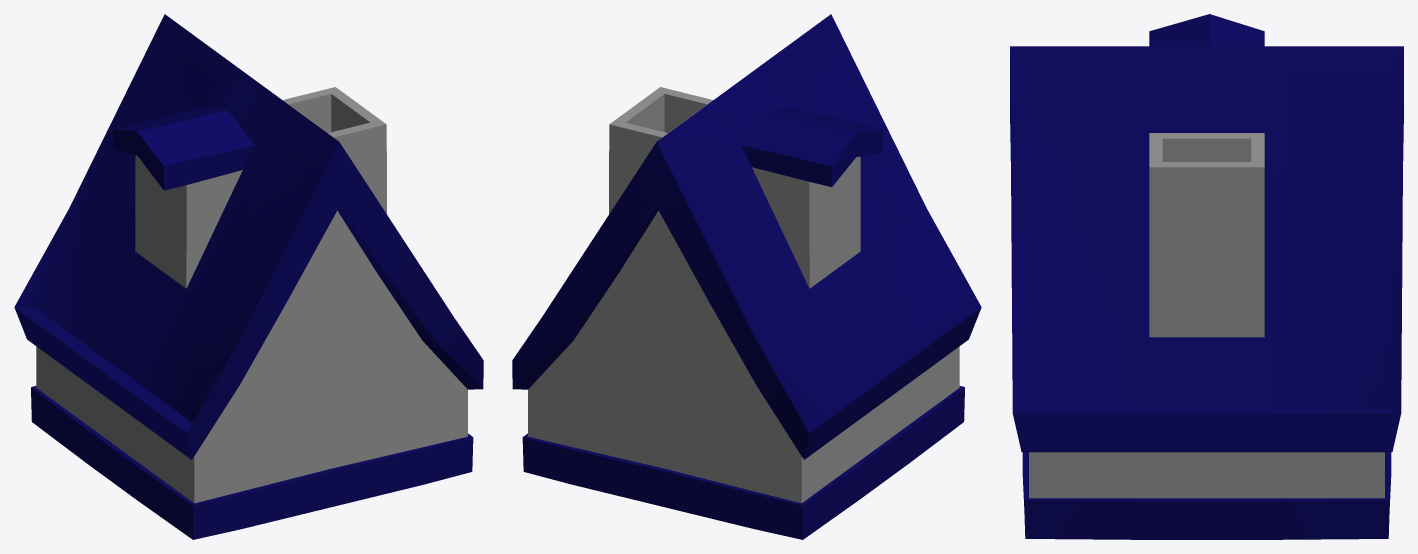
Rendered from casa3.FBX.
3 renders of one model, left to right at view 1: azimuth 30°, elevation 25°; view 2: azimuth 150°, elevation 25°; view 3: azimuth 270°, elevation 25°, orthographic. The views are drawn at different scales.
Visible parts, largest first — view 1: Box001; view 2: Box001; view 3: Box001.
Part boxes in pixels (<box>): Box001: <box>14,14,483,539</box>; Box001: <box>512,14,981,539</box>; Box001: <box>1010,14,1403,539</box>.
Bounding box in the file's own units: 67.4 × 79.19 × 67.85.
